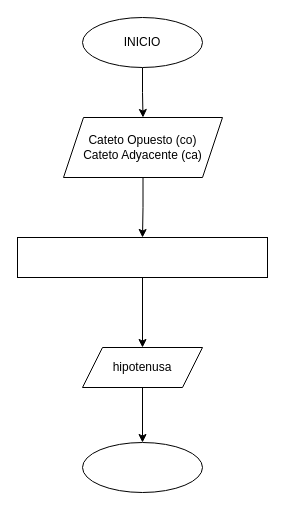
Some shapes in this 285 by 510 pixel diagram are drawn without their labels. The shapes that lost their labels are listed below. From the top down, each one's box as (x1, y1, x2, y2) in pixels, then its label:
(16, 236, 268, 278): hipotenusa = raíz cuadrada(co elevado al cuadrado + ca elevado al cuadrado)
(82, 442, 202, 492): FIN
